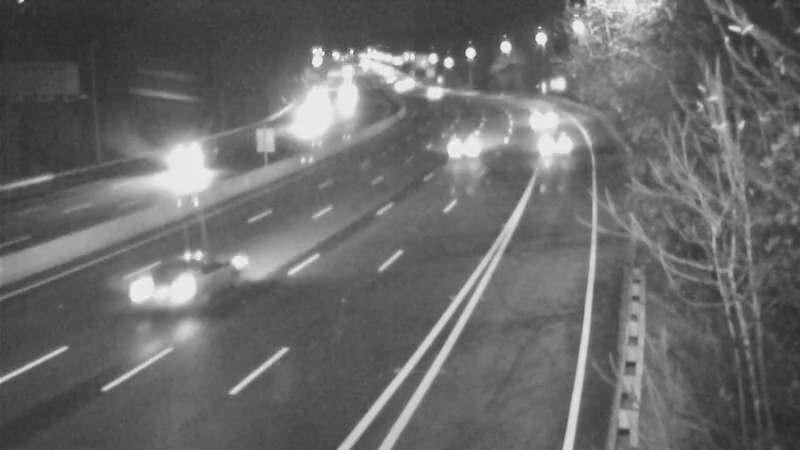vehicle: (122, 253, 202, 333), (136, 117, 216, 197), (406, 66, 456, 116), (514, 96, 564, 146), (526, 124, 576, 174), (434, 121, 484, 171), (283, 99, 333, 149), (319, 73, 369, 123)
